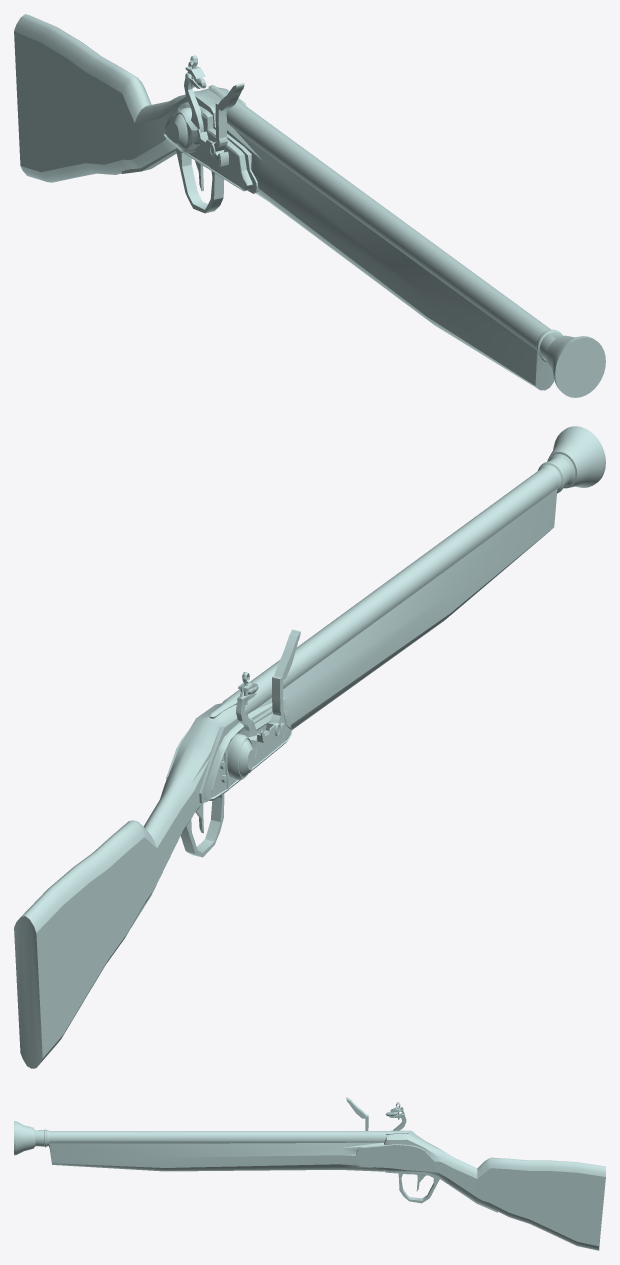
Rendered from musketBlunderbuss.obj.
3 views of the same model, one above another, from view 1: azimuth 30°, elevation 25°; view 2: azimuth 150°, elevation 25°; view 3: azimuth 270°, elevation 25° (orthographic). The views are drawn at different scales.
Visible parts, largest first — view 1: musketBlunderbuss.002; view 2: musketBlunderbuss.002; view 3: musketBlunderbuss.002.
Boxes of the visible parts, box(x1,y1,x2,y2) form: musketBlunderbuss.002: box(14, 14, 605, 397); musketBlunderbuss.002: box(14, 426, 605, 1068); musketBlunderbuss.002: box(14, 1097, 605, 1250).
Bounding box in the file's own units: 0.128 × 0.5256 × 1.95.
1 material, 1 textured.
